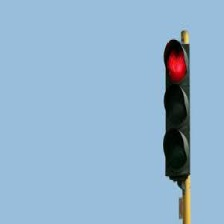semaforo: (161, 39, 193, 182)
